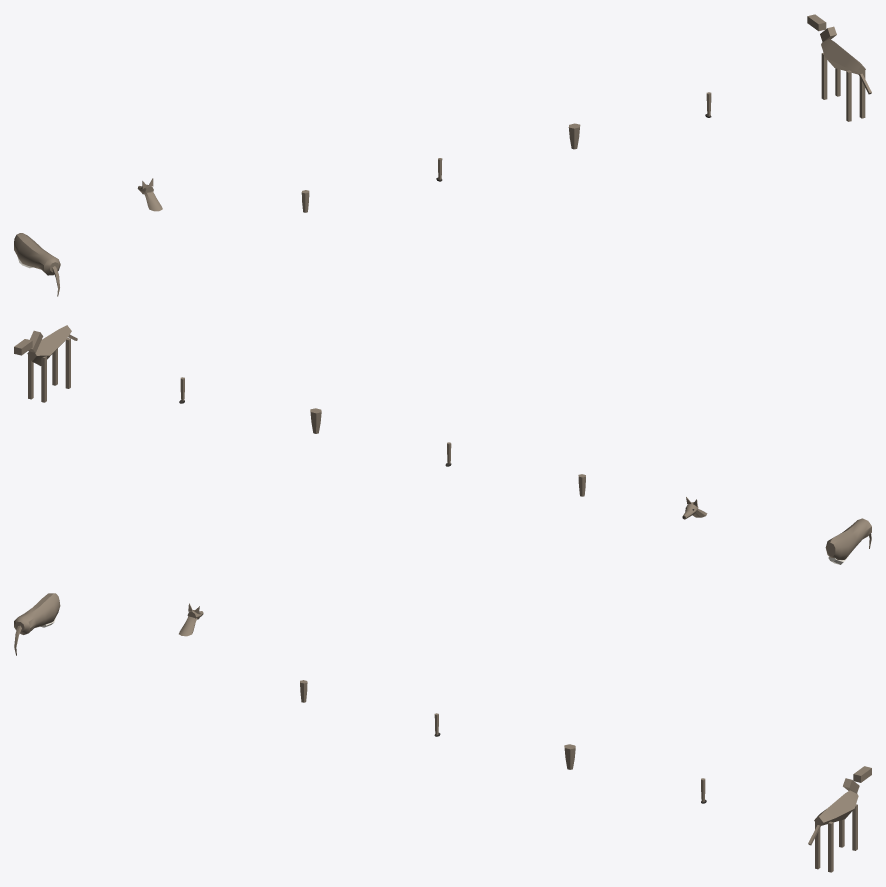
Rendered from dog.glb.
The picture shows the model from 3 angles, top to bottom: view 1: azimuth 30°, elevation 25°; view 2: azimuth 150°, elevation 25°; view 3: azimuth 330°, elevation 25°; orthographic projection.
Parts seen in each view (by area): view 1: far, body; view 2: far, body; view 3: far, body.
Part boxes in pixels (x1,y1,x2,y2): far: [807, 14, 871, 121]; body: [14, 233, 60, 296]; far: [14, 325, 77, 402]; body: [825, 518, 871, 564]; far: [808, 766, 871, 872]; body: [14, 593, 60, 655].
Size of the model in its own units: 8.59 by 0.7723 by 1.07.
